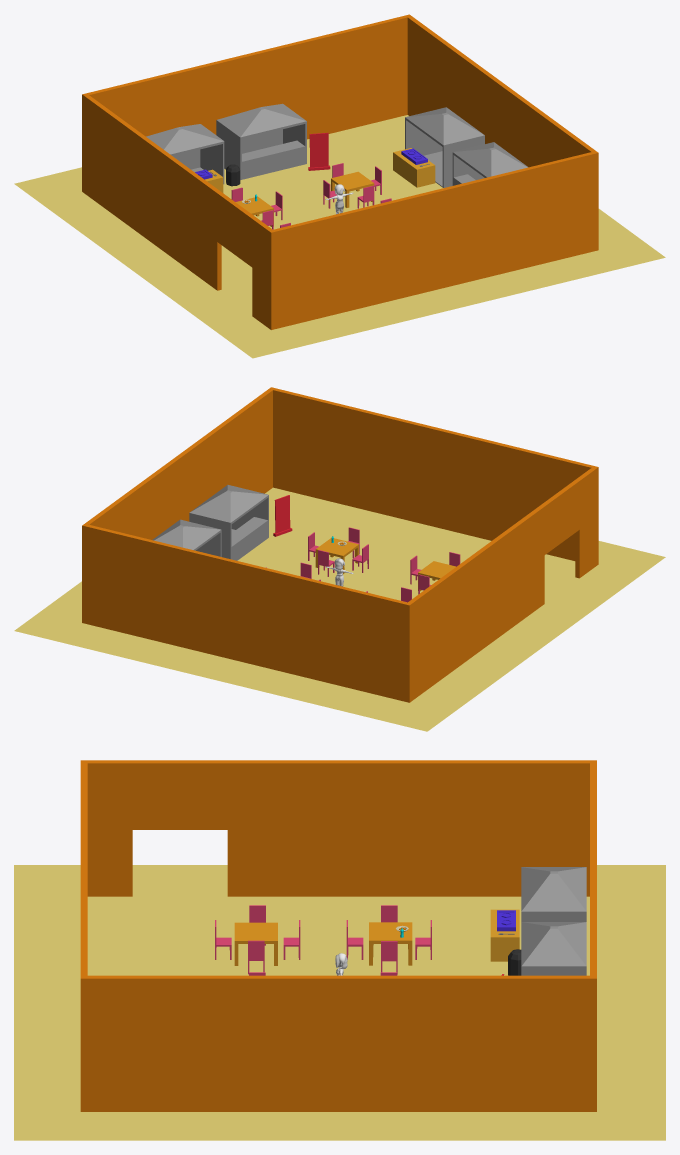
Rendered from Food Court Blockout.fbx.
The picture shows the model from 3 angles, top to bottom: view 1: azimuth 30°, elevation 25°; view 2: azimuth 150°, elevation 25°; view 3: azimuth 270°, elevation 25°; orthographic projection. The views are drawn at different scales.
Parts seen in each view (by area): view 1: Dinding Ruangan 01, Floor, Dinding Ruangan 03, Dinding Ruangan 04, Dinding Ruangan 02, Food Booth 01, Food Booth 02.001, Food Booth 02, Food Booth 01.001, Booth Table.001, Standee, Table.001; view 2: Floor, Dinding Ruangan 03, Dinding Ruangan 01, Dinding Ruangan 04, Dinding Ruangan 02, Food Booth 01.001, Food Booth 02.001, Table.003, Standee.001; view 3: Floor, Dinding Ruangan 02, Dinding Ruangan 04, Food Booth 02, Food Booth 01, Dinding Ruangan 01, Dinding Ruangan 03, Table.002, Booth Table, Table.
Part boxes in pixels (x1,y1,x2,y2): Dinding Ruangan 01: (268,151,598,329); Floor: (14,115,665,358); Dinding Ruangan 03: (82,14,411,193); Dinding Ruangan 04: (84,95,272,327); Dinding Ruangan 02: (407,16,595,167); Food Booth 01: (216,103,306,179); Food Booth 02.001: (405,107,484,187); Food Booth 02: (146,124,224,184); Food Booth 01.001: (452,142,528,185); Booth Table.001: (393,148,435,187); Standee: (308,132,330,170); Table.001: (331,171,374,207); Floor: (14,487,665,731); Dinding Ruangan 03: (82,524,412,702); Dinding Ruangan 01: (269,387,598,565); Dinding Ruangan 04: (408,468,595,700); Dinding Ruangan 02: (85,389,272,539); Food Booth 01.001: (189,485,268,560); Food Booth 02.001: (152,519,221,556); Table.003: (315,538,358,573); Standee.001: (273,495,292,536); Floor: (14,865,665,1140); Dinding Ruangan 02: (87,975,589,1111); Dinding Ruangan 04: (87,760,589,896); Food Booth 02: (521,867,586,921); Food Booth 01: (521,922,586,975); Dinding Ruangan 01: (80,760,87,1111); Dinding Ruangan 03: (590,760,596,1111); Table.002: (234,922,277,965); Booth Table: (490,909,519,961); Table: (369,922,412,965).
Bounding box in the file's own units: 2000 × 451 × 2000.
